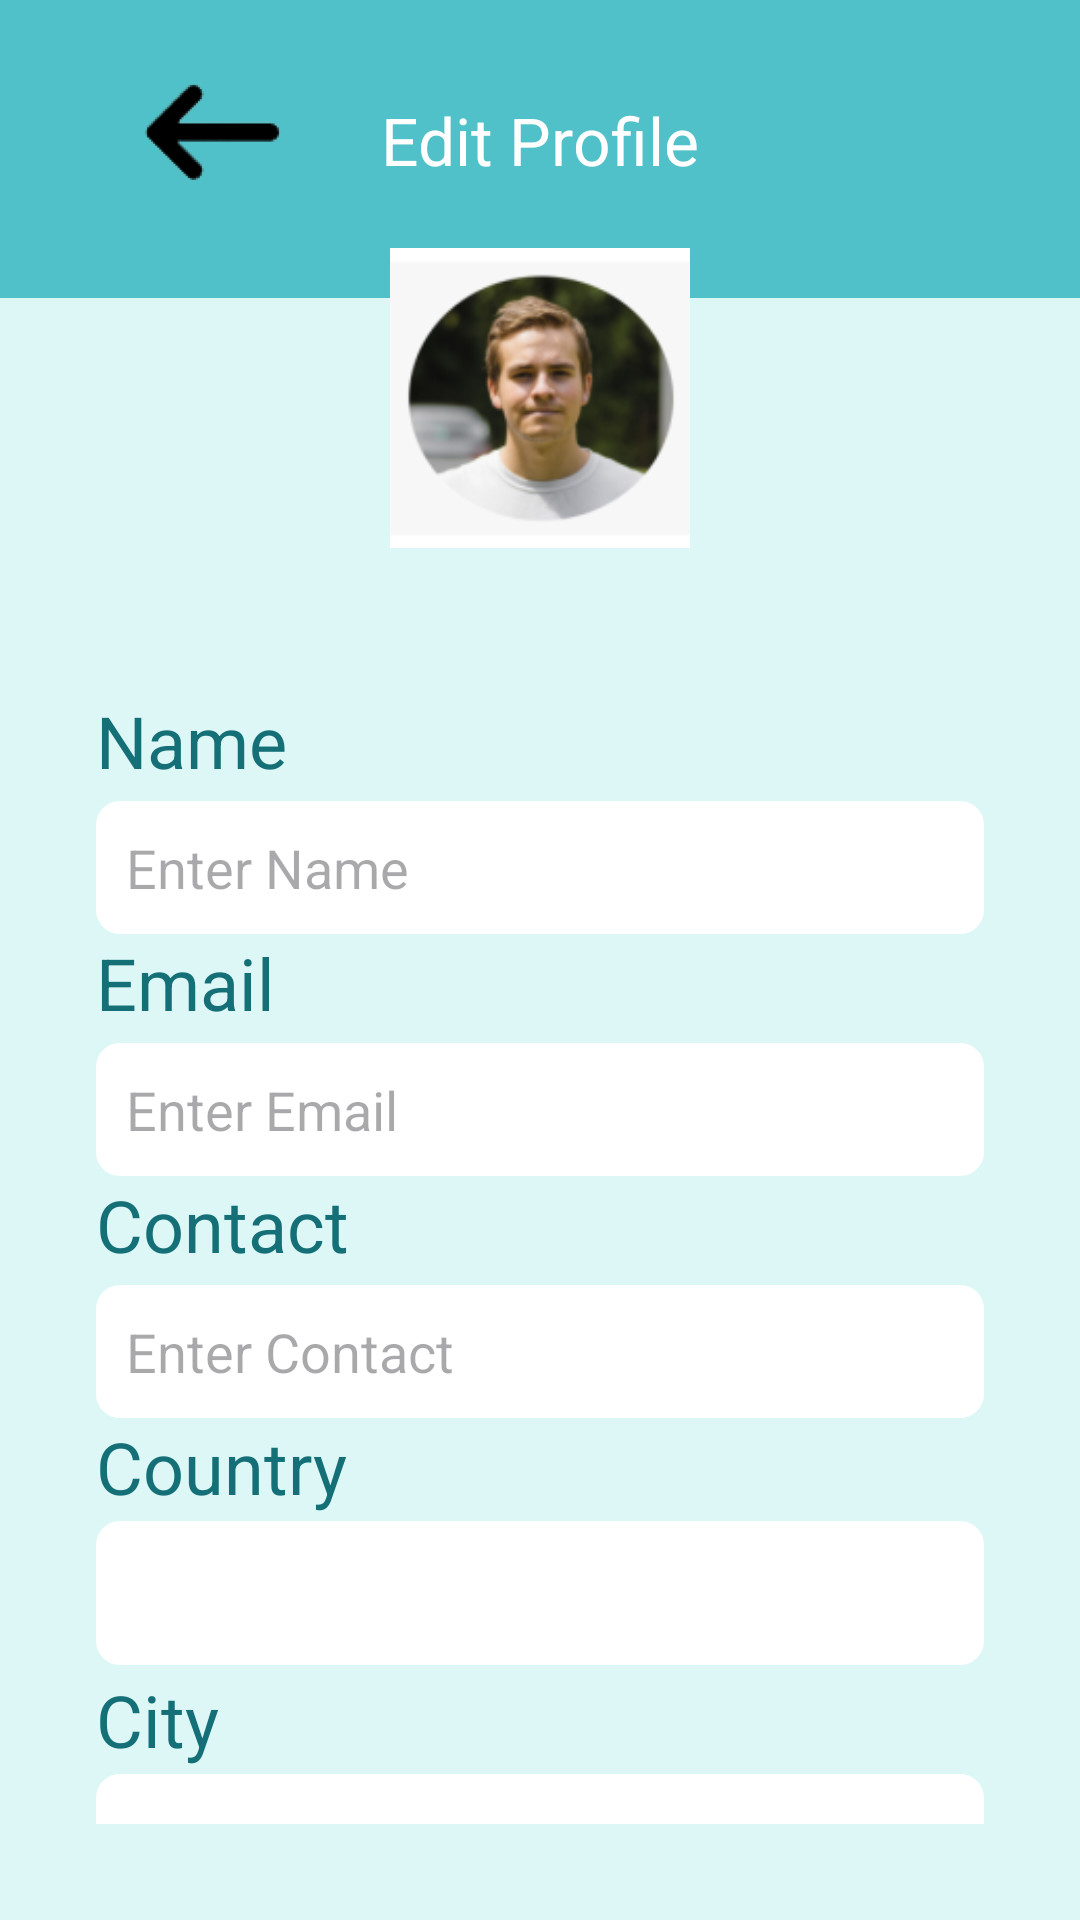

Icon click points for this 1080 x 1920 phone screenshot, format [x,y]:
arrow: [212,132]
